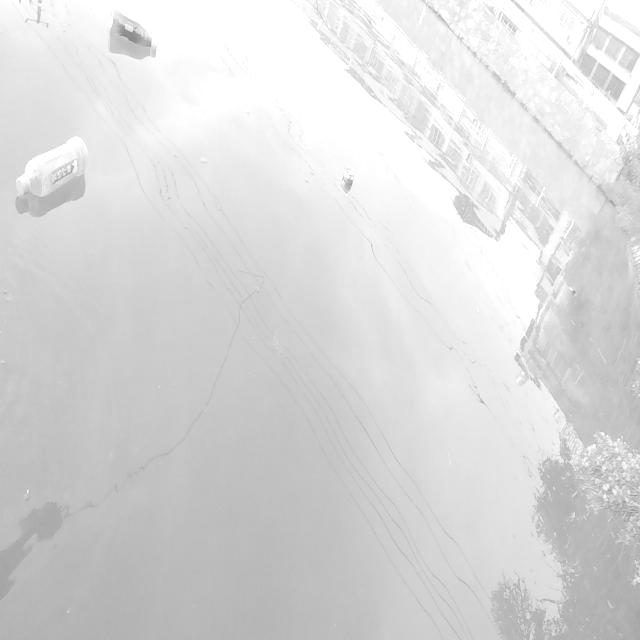bottle: (9, 120, 98, 216), (100, 6, 168, 67)
